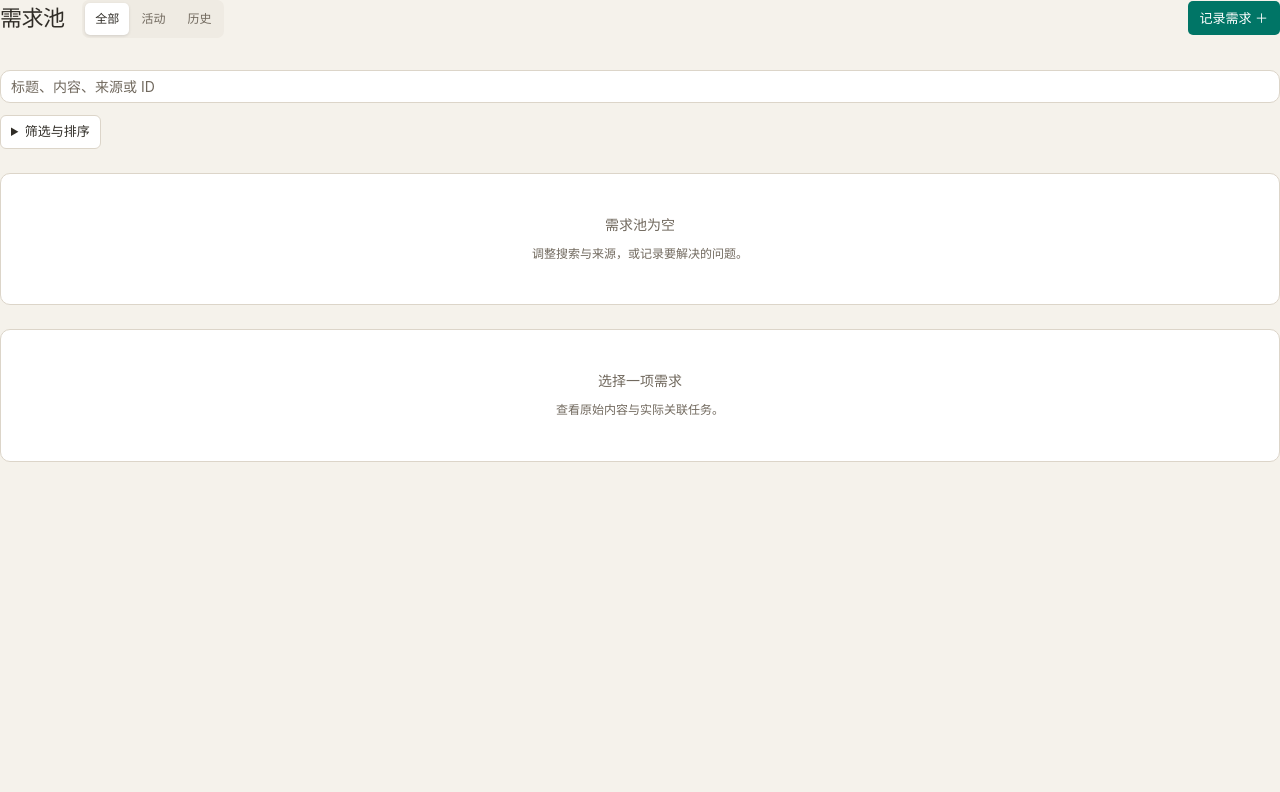
Test: management records › preserves requirement drafts on write failure and creates through the existing endpoint
Expected: the heading "需求池为空" is shown, [605,214,675,234]
Click the button "记录需求 ＋" at (1234, 18), box [1188,1,1279,35]
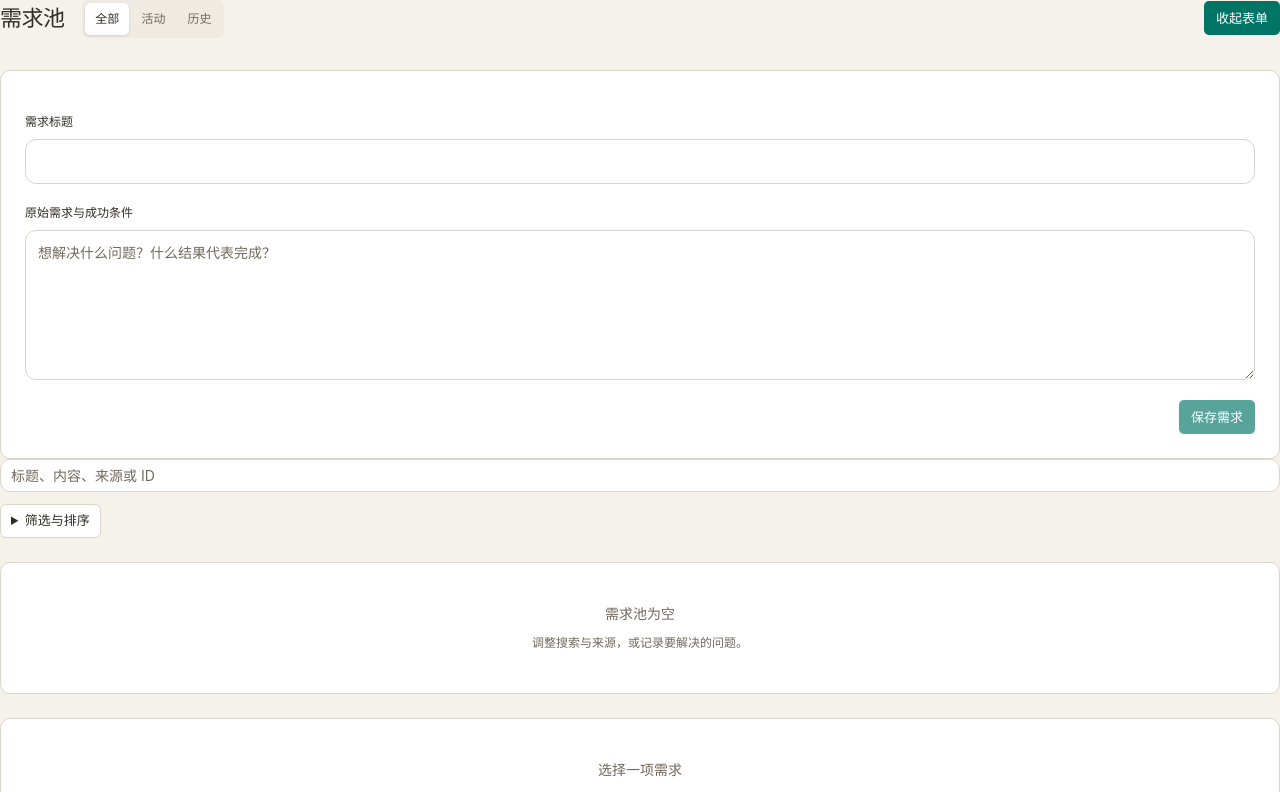
Type "真实需求" into the field labelled "需求标题" at (640, 162), box [25,139,1255,184]
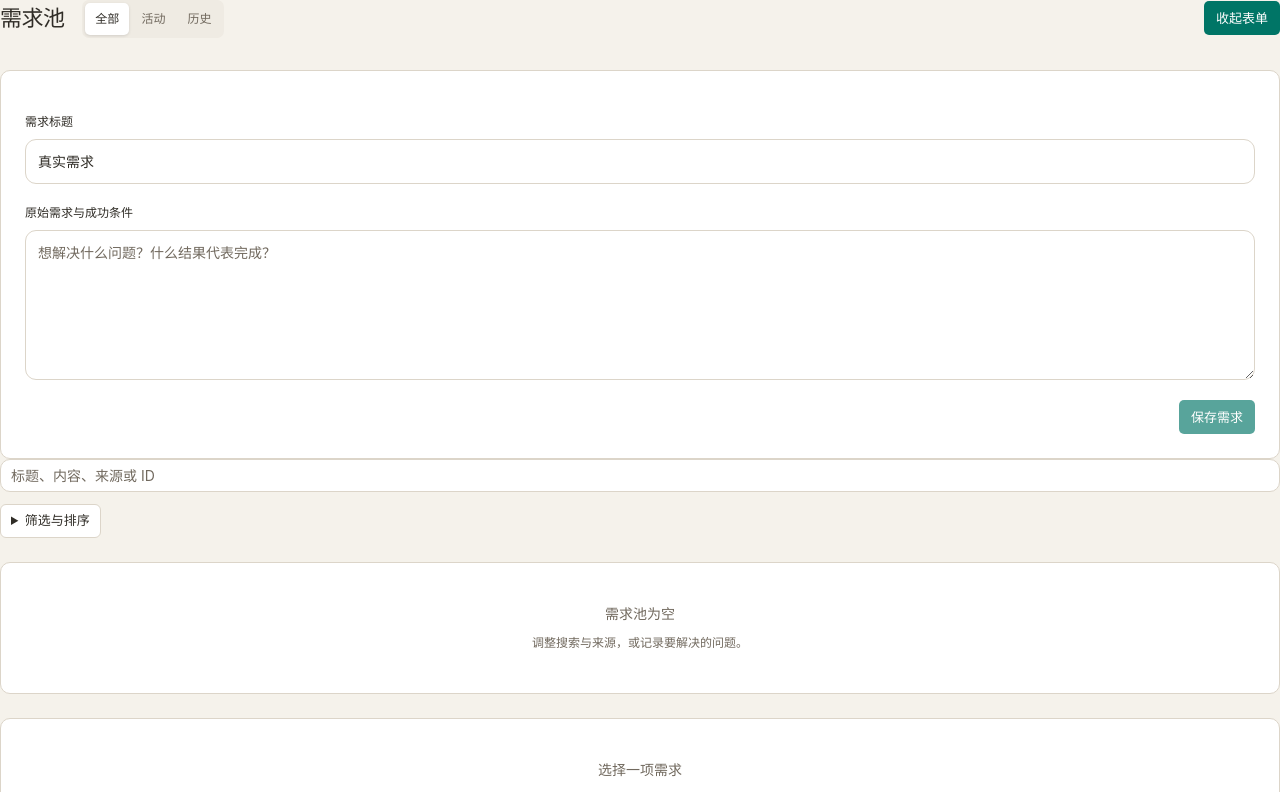
Type "真实验收" into the text box labelled "原始需求与成功条件" at (640, 305), box [25,230,1255,380]
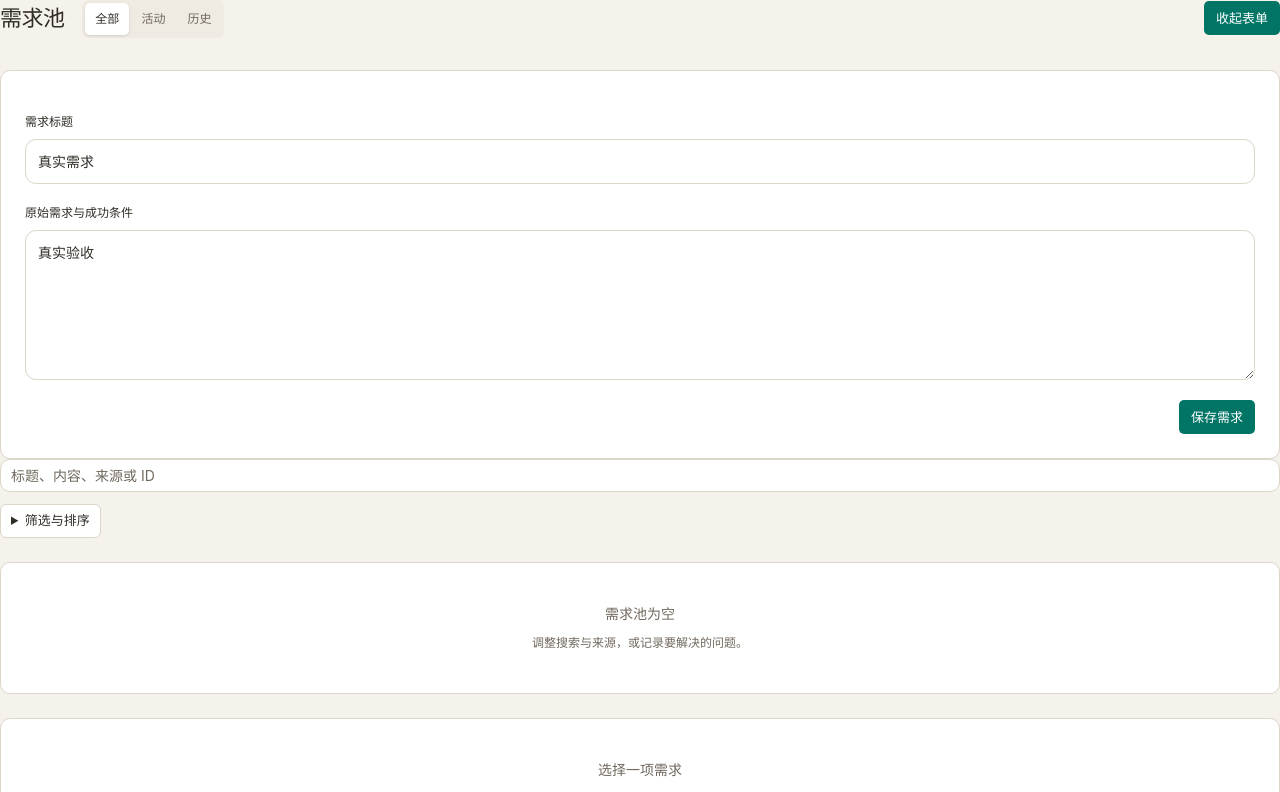
Click the button "保存需求" at (1217, 417), box [1179,400,1255,434]
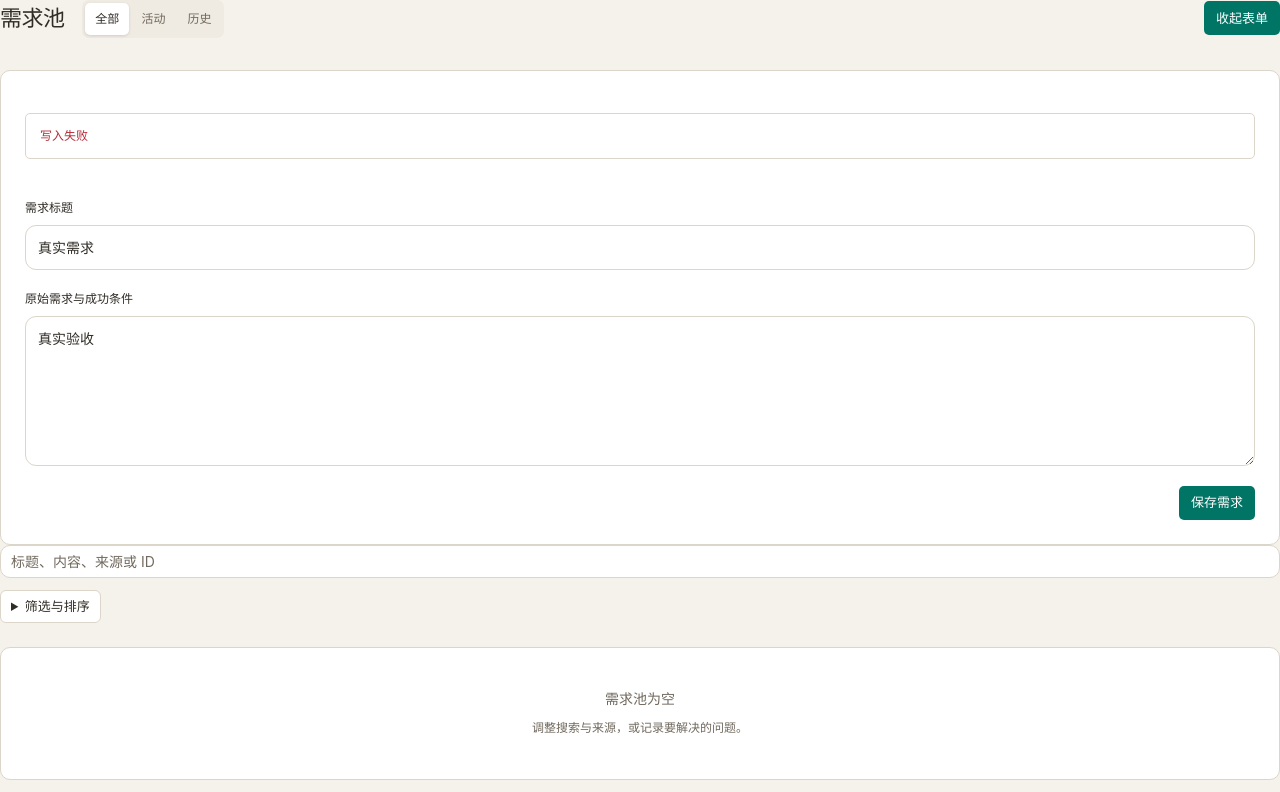
Expected: the message "写入失败" is shown, [25,113,1255,159]
Click the button "保存需求" at (1217, 503), box [1179,486,1255,520]
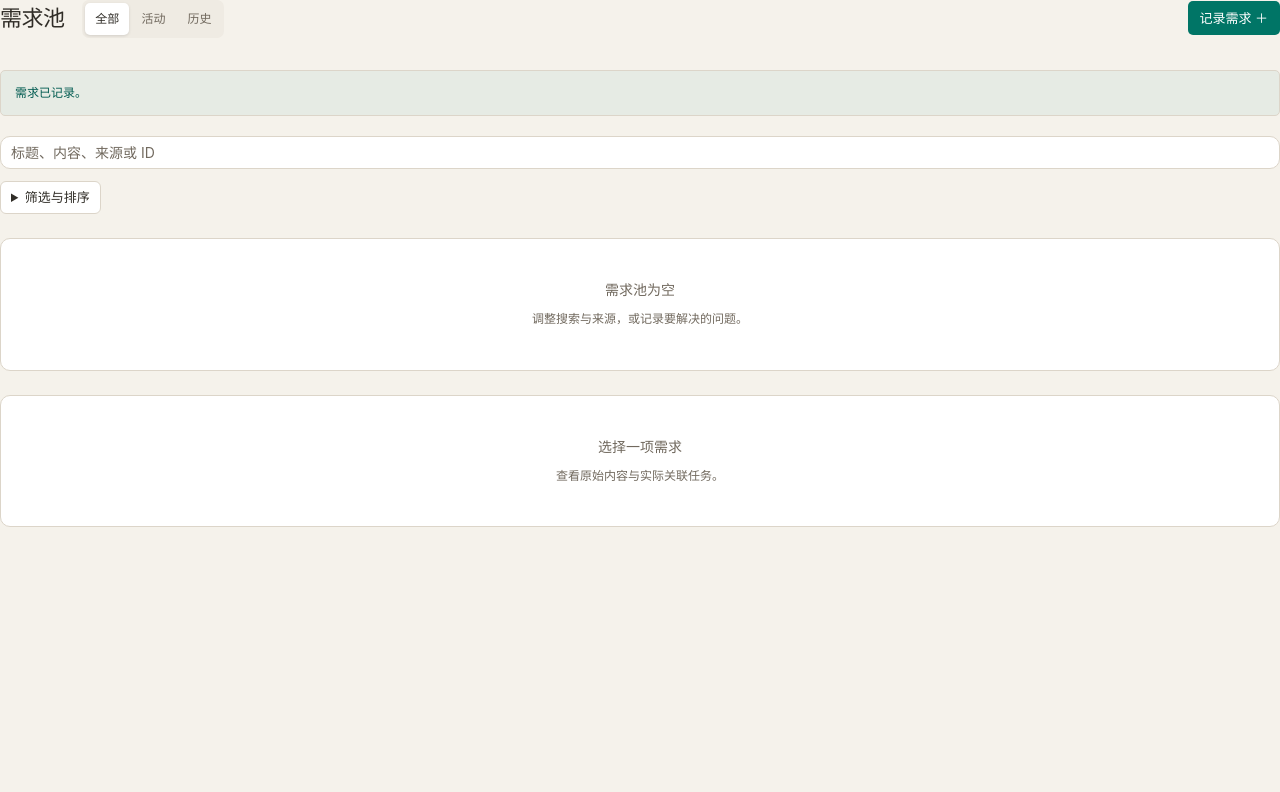
Expected: the text "需求已记录。" is shown, [0,70,1279,116]
